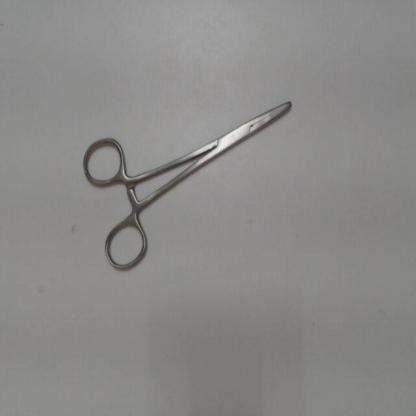Mayo Needle Holder: (75, 88, 307, 278)
